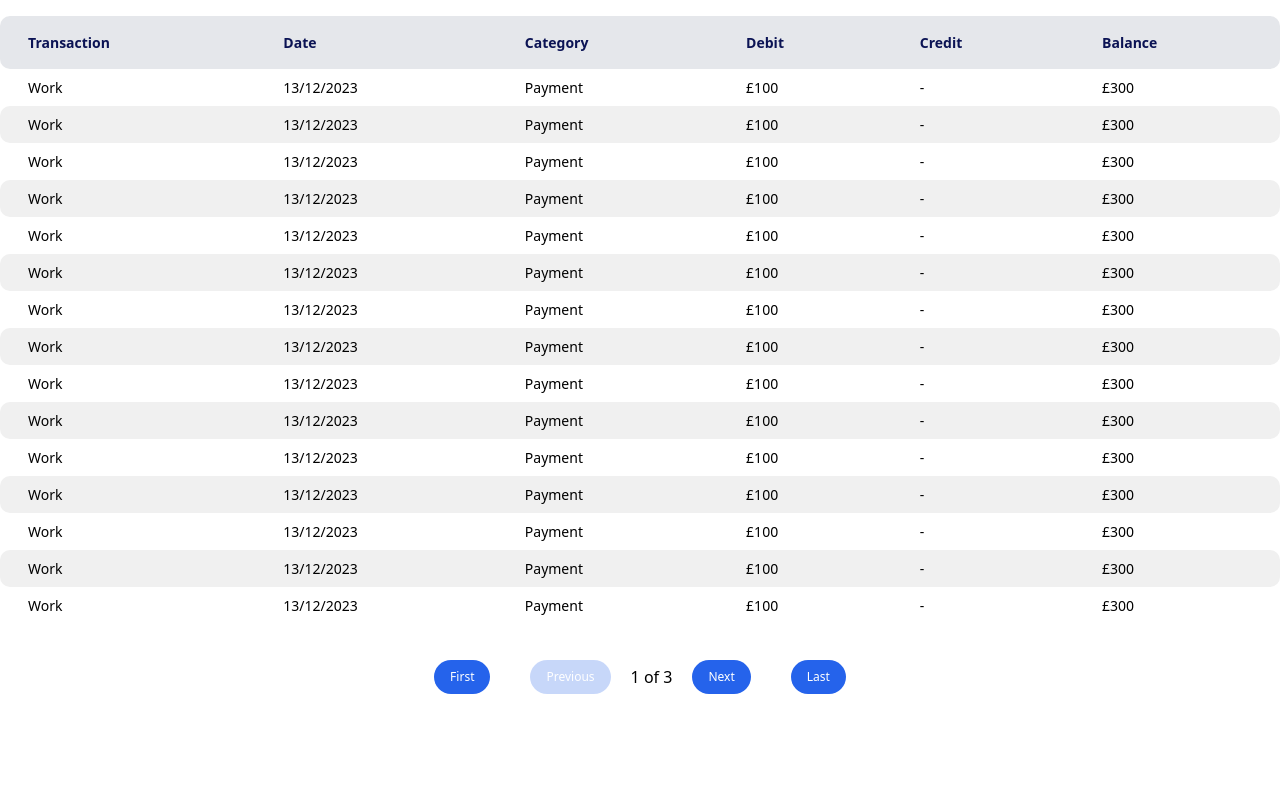
Test: Should navigate to next page
Check: the text "1 of 3" is shown, box [631,665,672,689]
Click the button "Next". click: (722, 677)
box: [692,660,751,694]
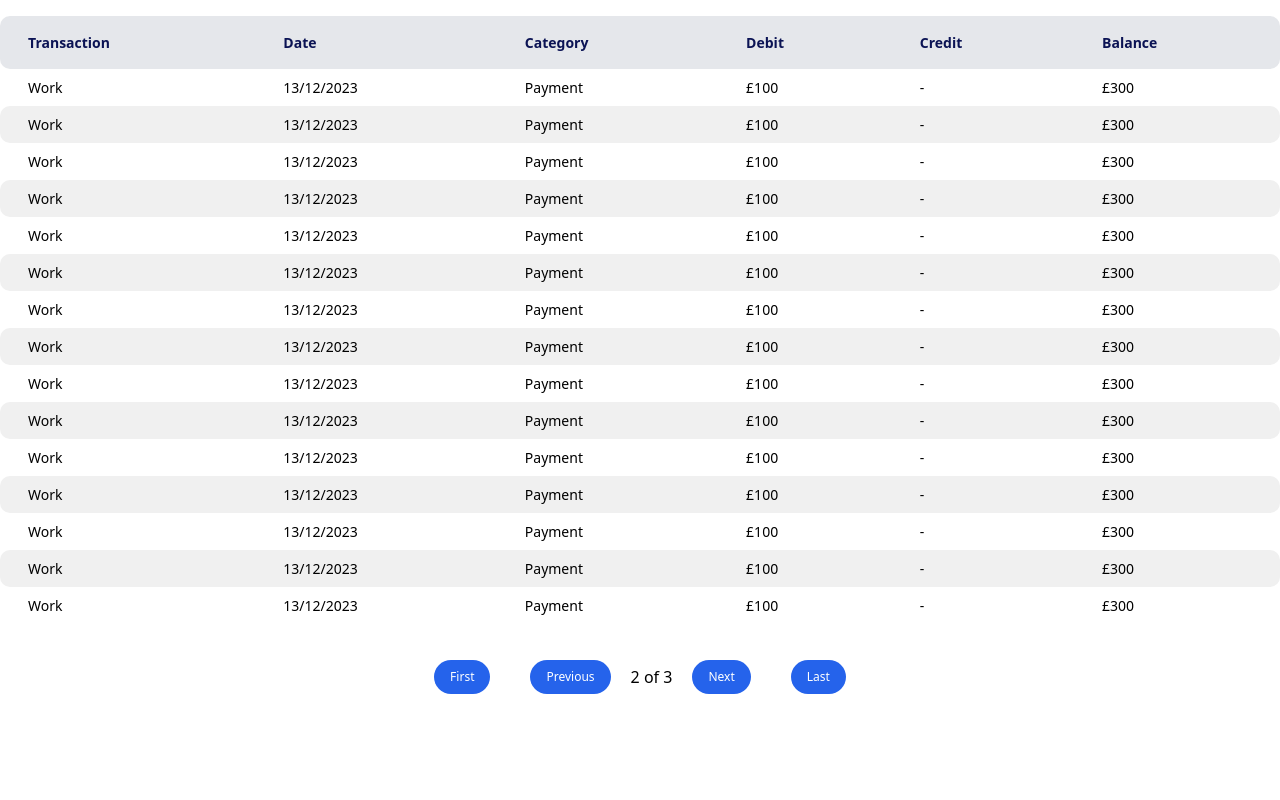
Check: the text "2 of 3" is shown, box [631,665,672,689]
Click the button "Last". click: (818, 677)
box: [791,660,846,694]
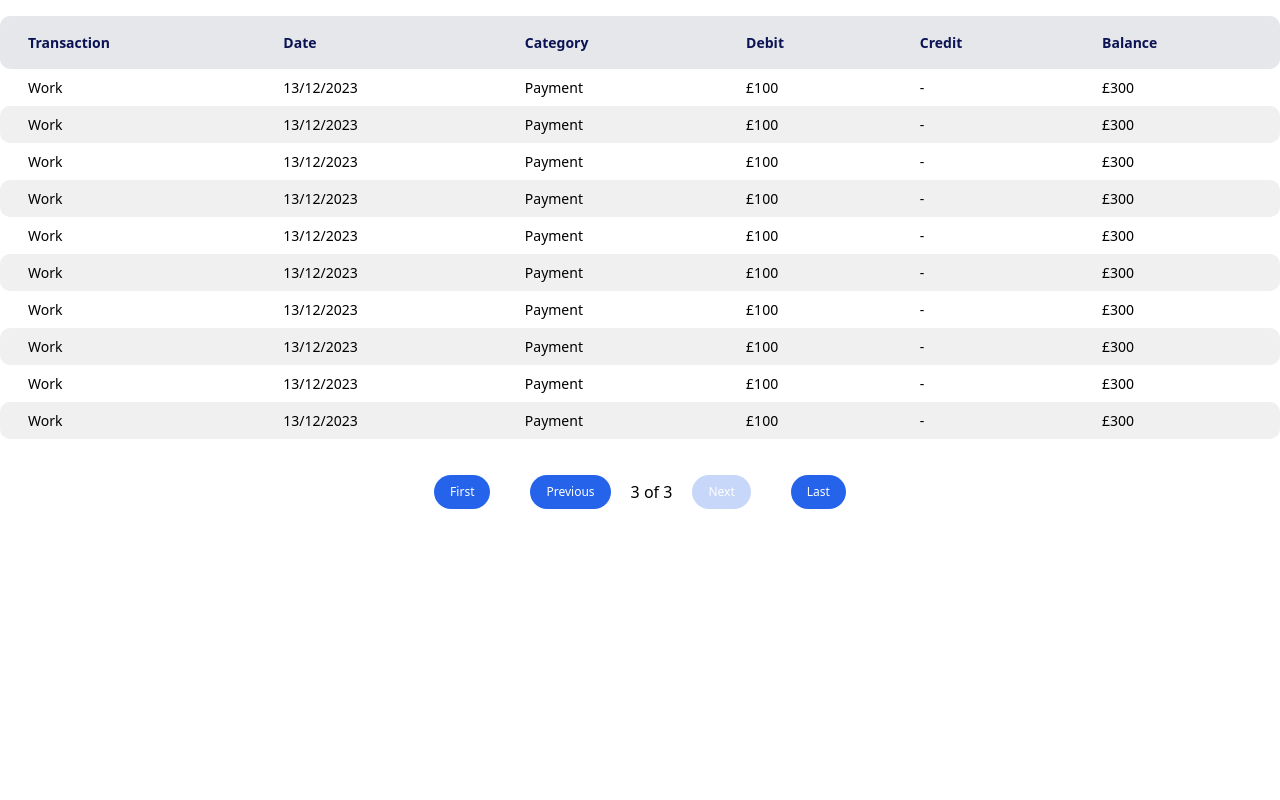
Check: the text "3 of 3" is shown, box [631,480,672,504]
Click the button "Previous". click: (571, 492)
box: [530,475,611,509]
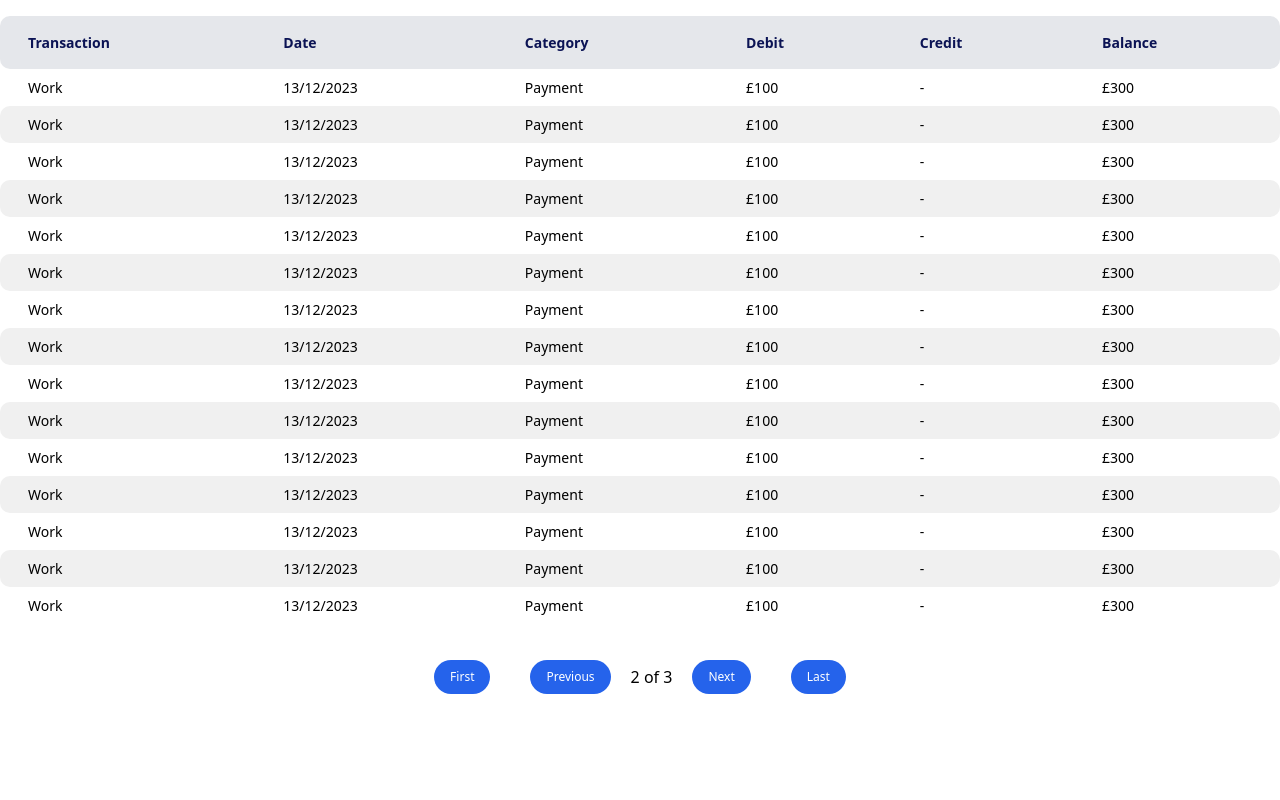
Check: the text "2 of 3" is shown, box [631,665,672,689]
Click the button "First". click: (462, 677)
box: [434,660,490,694]
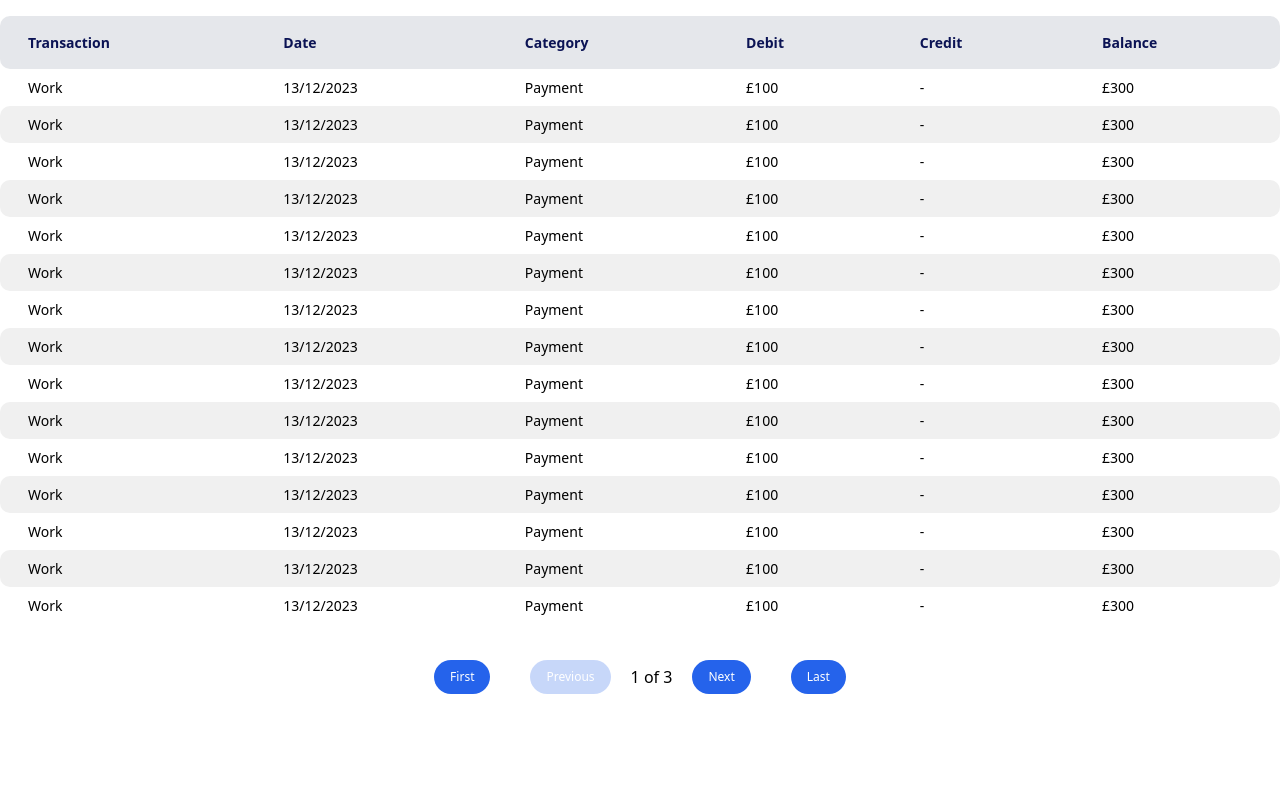
Check: the text "1 of 3" is shown, box [631,665,672,689]
